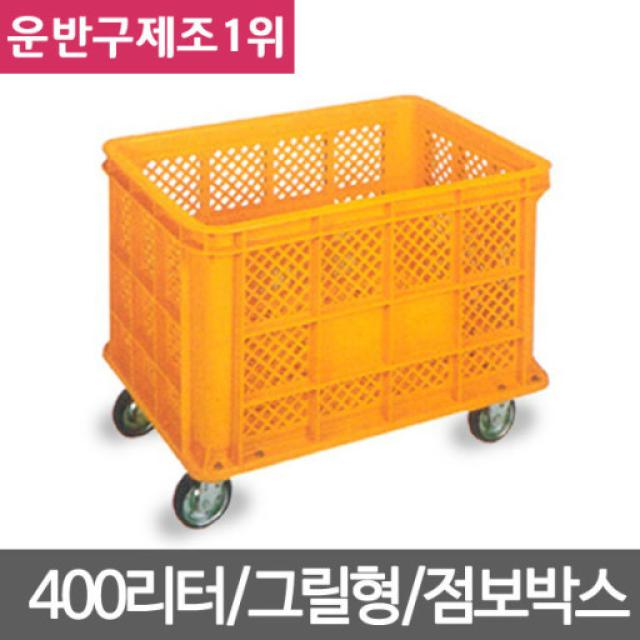basket: (50, 32, 608, 502)
